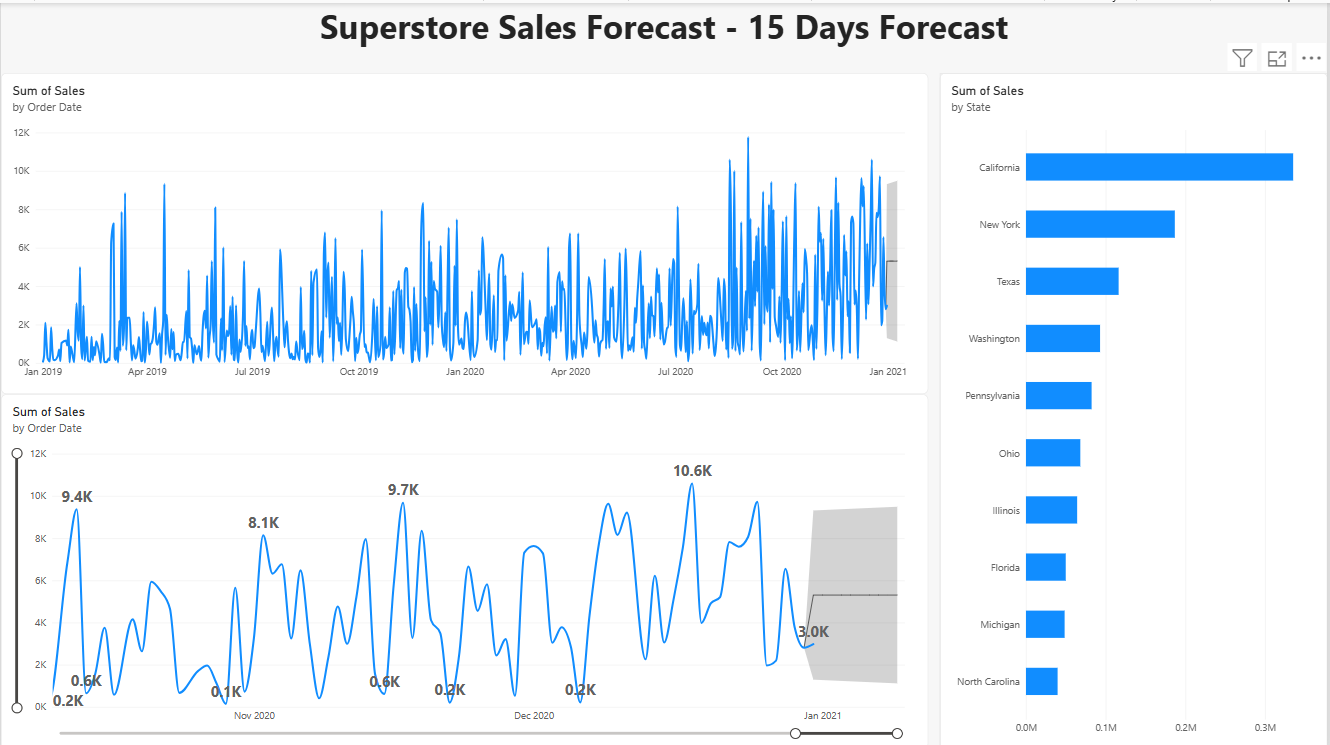

The page's visual inventory and layout, read from the dashboard file:
{"tool":"powerbi","page":{"name":"Forecasting","canvas":[1920,1080],"ordinal":1},"visuals":[{"type":"lineChart","fields":{"Category":["SuperStore_Sales_Dataset.Order Date"],"Y":["Sum(SuperStore_Sales_Dataset.Sales)"]},"box":[0,101.3,1342.8,465.1],"z":0},{"type":"lineChart","fields":{"Category":["SuperStore_Sales_Dataset.Order Date"],"Y":["Sum(SuperStore_Sales_Dataset.Sales)"]},"box":[0,566.4,1342.8,513.9],"z":1000},{"type":"barChart","fields":{"Category":["SuperStore_Sales_Dataset.State"],"Y":["Sum(SuperStore_Sales_Dataset.Sales)"]},"box":[1358.5,100.9,561.9,979.8],"z":2000},{"type":"textbox","box":[0,0,1920.1,101.3],"z":2001}]}

Visuals, with their boxes on the page's 1920x1080 design canvas (x1, y1, x2, y2). These are canvas units, not pixel positions in the 1330x745 screenshot, which may show the page scaled, cropped or inside an application window:
lineChart - SuperStore_Sales_Dataset.Order Date x Sum(SuperStore_Sales_Dataset.Sales): x1=0 y1=101 x2=1343 y2=566
lineChart - SuperStore_Sales_Dataset.Order Date x Sum(SuperStore_Sales_Dataset.Sales): x1=0 y1=566 x2=1343 y2=1080
barChart - SuperStore_Sales_Dataset.State x Sum(SuperStore_Sales_Dataset.Sales): x1=1358 y1=101 x2=1920 y2=1081
textbox: x1=0 y1=0 x2=1920 y2=101
